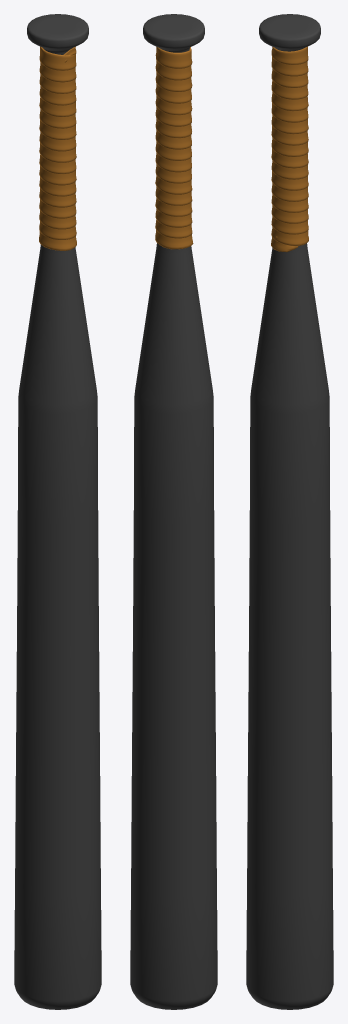
Rendered from BaseballBat.glb.
3 views of the same model, side by side, from view 1: azimuth 90°, elevation 25°; view 2: azimuth 150°, elevation 25°; view 3: azimuth 270°, elevation 25° (orthographic).
Visible parts, largest first — view 1: Bat, Grip; view 2: Bat, Grip; view 3: Bat, Grip.
Boxes of the visible parts, x1=… form: Bat: x1=14, y1=14, x2=101, y2=1009; Grip: x1=39, y1=46, x2=76, y2=250; Bat: x1=130, y1=14, x2=217, y2=1009; Grip: x1=155, y1=46, x2=193, y2=249; Bat: x1=246, y1=14, x2=333, y2=1009; Grip: x1=271, y1=46, x2=308, y2=252.
Size of the model in its own units: 0.0268 by 0.3275 by 0.0268.
